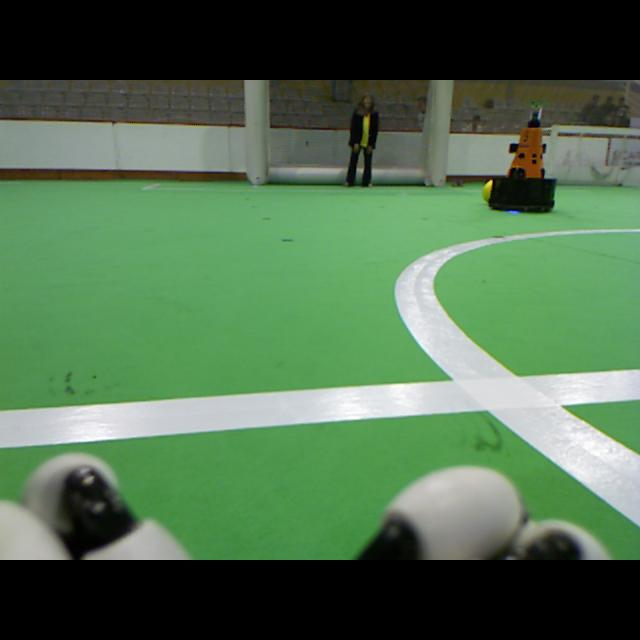ball: (482, 181, 491, 202)
robot: (490, 103, 556, 211)
